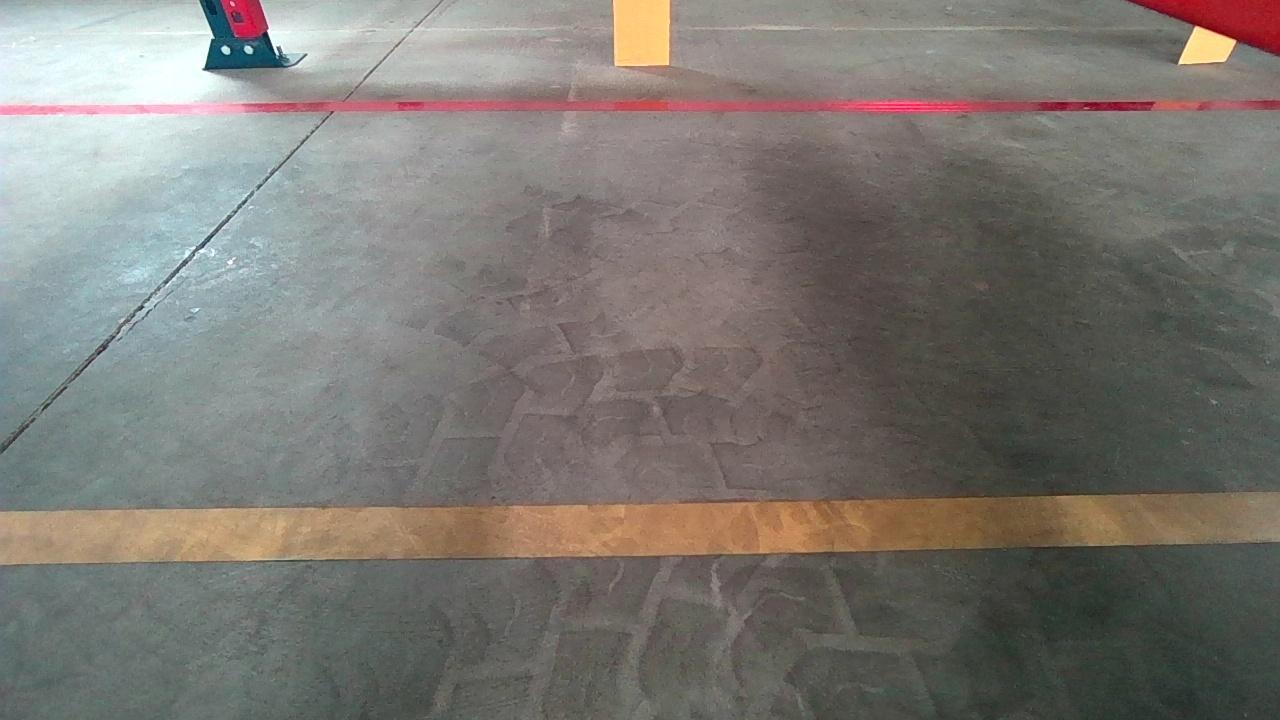orange_strip: (1174, 13, 1246, 66), (614, 0, 671, 65)
red_line: (16, 93, 1261, 125)
yellow_line: (0, 489, 1278, 567)
